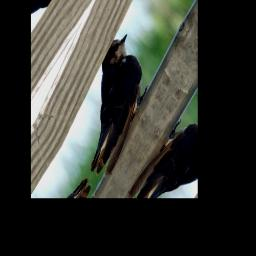Swallow: (58, 26, 166, 185)
